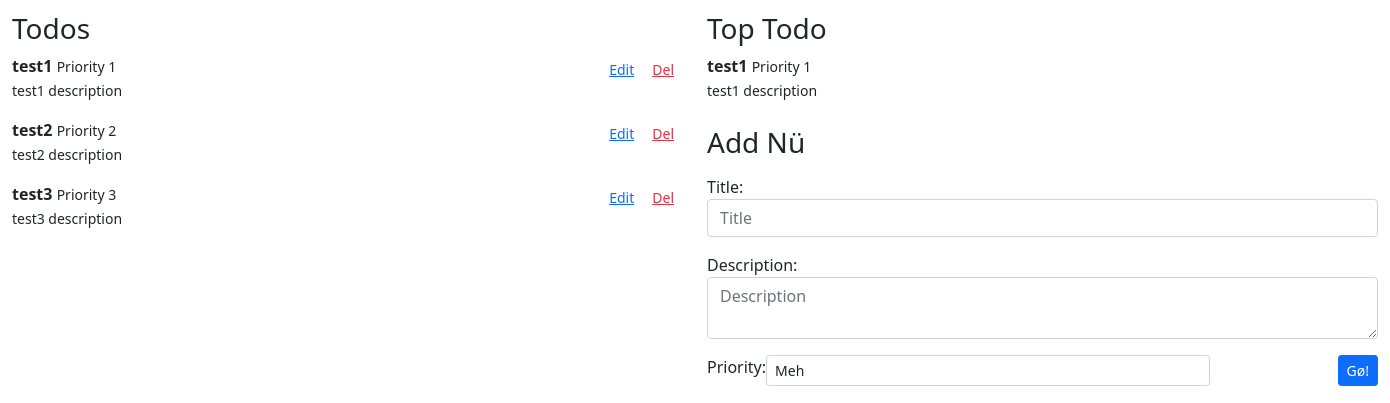
Tests for Todo App › creates a new todo
Type "newTitle" into the field labelled "Title:" at (1042, 218), box [707,199,1378,237]
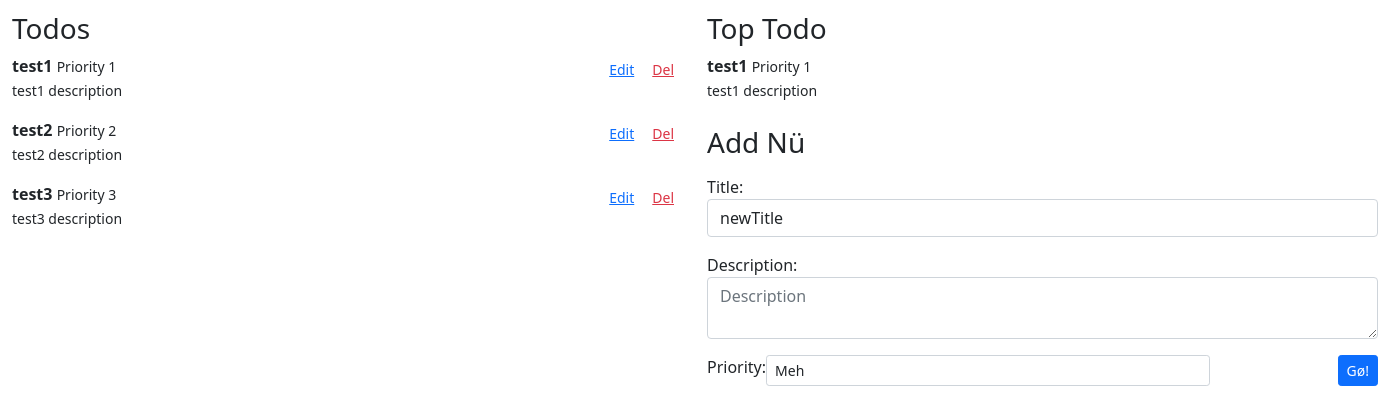
Type "newDesc" into the text box labelled "Description:" at (1042, 308), box [707,277,1378,339]
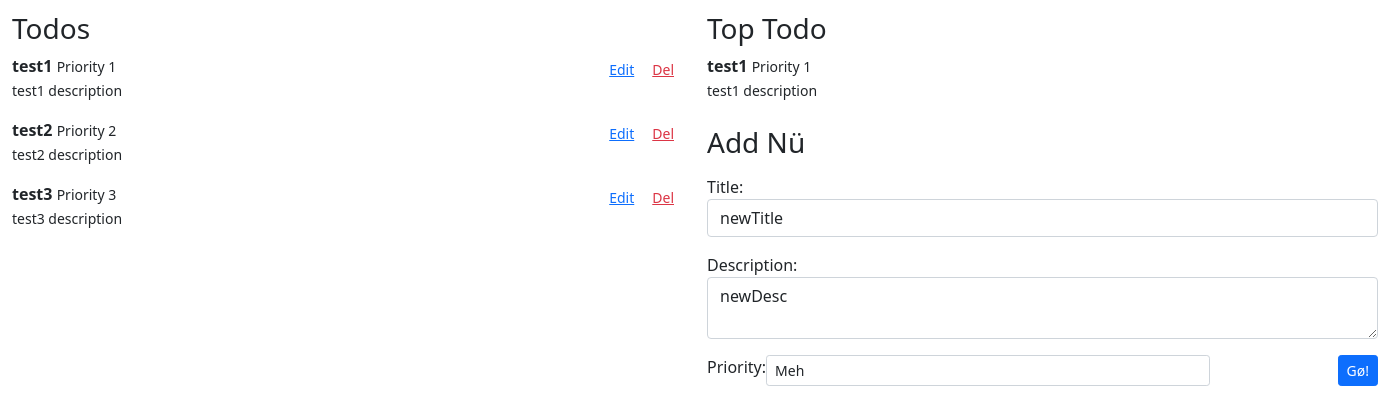
Select "Ultra-Über" in the dropdown labelled "Priority:" at (988, 371), box [766,355,1210,386]
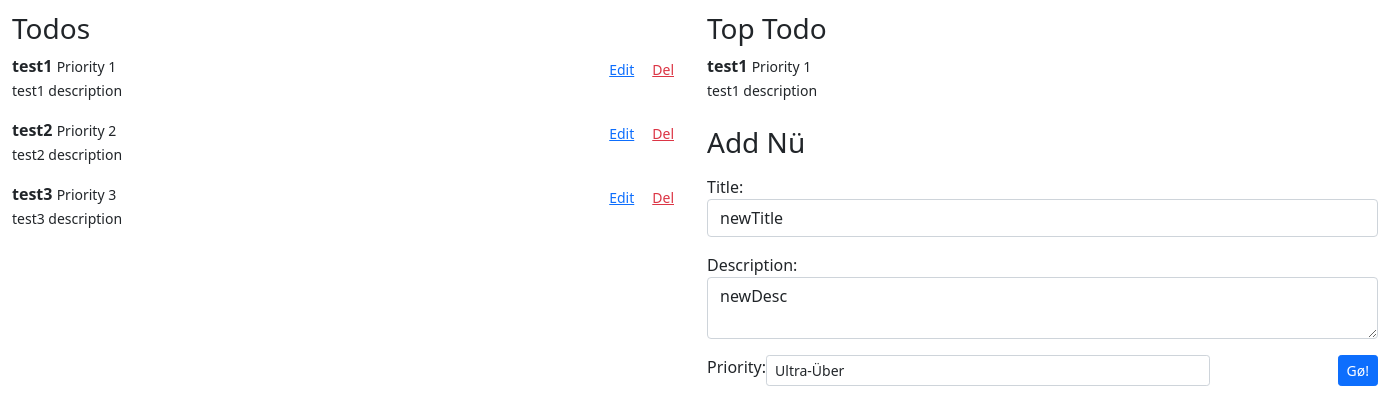
Click the button with class "NewTodoForm-addBtn" at (1358, 371), box [1338,355,1378,386]
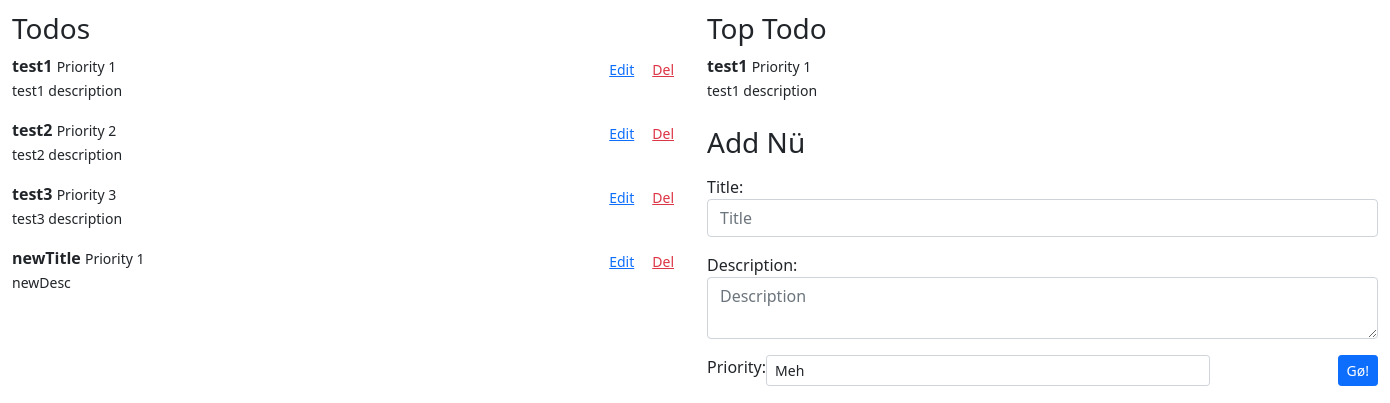
Expected: the element with class "EditableTodoList" shows "newTitle", [12,247,81,269]
